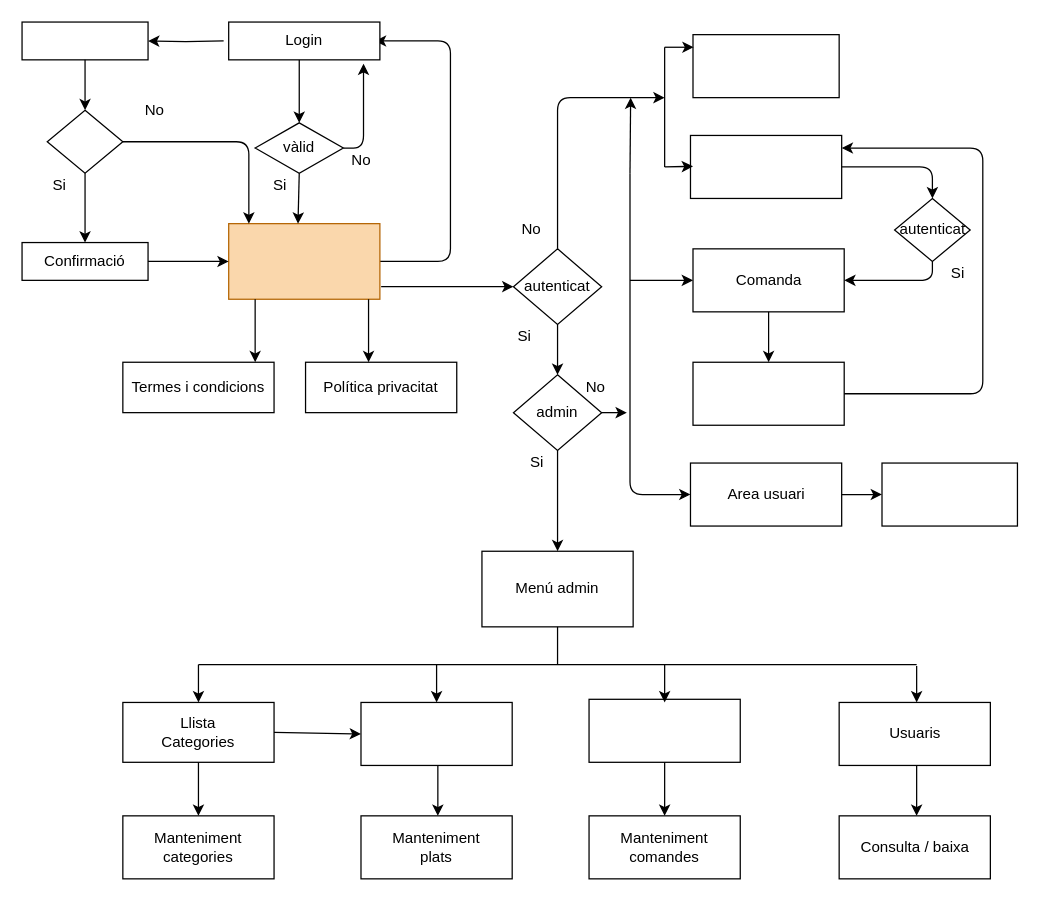
The diagram is 1040 pixels wide and 901 high, and some of its shapes have lost their labels. Each missing label, with the centre of its shape:
Botiga: pixel 765 166
Comanda confirmada: pixel 768 393
Contacte: pixel 765 65
Detall comanda: pixel 949 494
Home: pixel 303 260
Llista comandes: pixel 664 730
Llista plats: pixel 436 733
registrat: pixel 84 141
Registre: pixel 84 40
